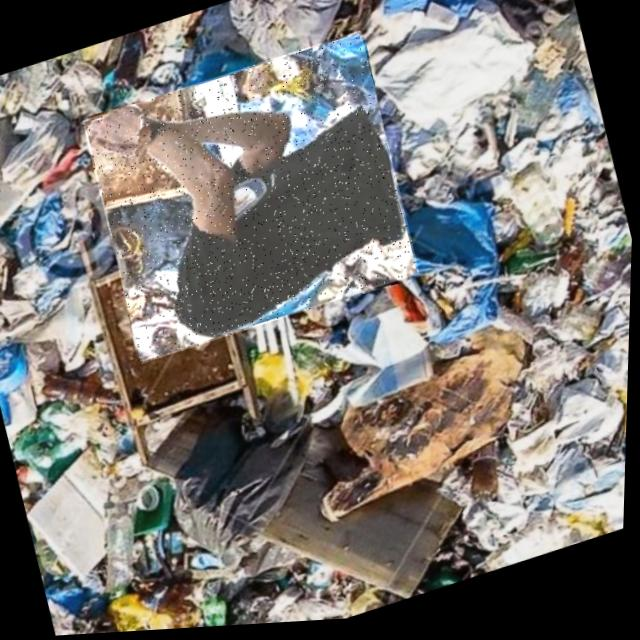Person in Rubble: (76, 30, 427, 367)
